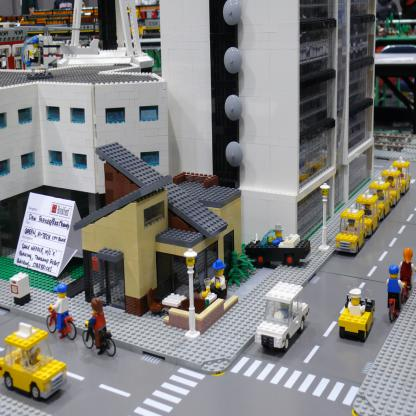Car: (334, 156, 411, 256), (0, 323, 67, 403)
